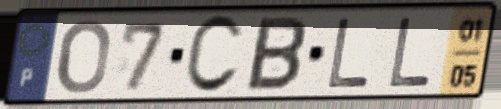7: (119, 19, 168, 93)
B: (242, 15, 310, 94)
C: (180, 12, 246, 98)
L: (385, 15, 434, 90), (324, 16, 373, 90)
O: (55, 17, 112, 96)
